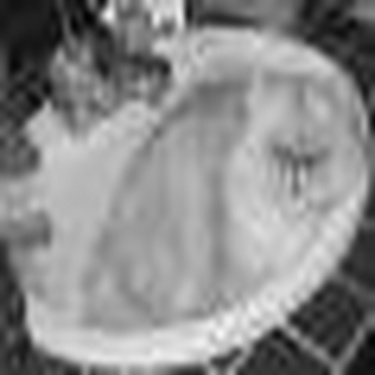cat: (4, 37, 332, 310)
